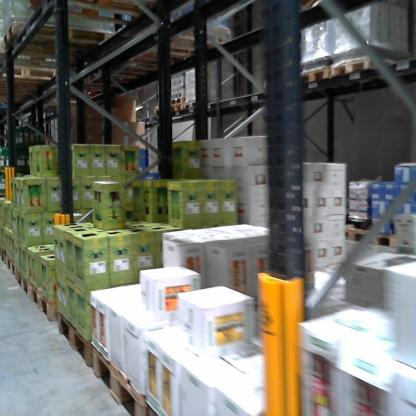pallet: (88, 332, 149, 415), (2, 21, 126, 61), (45, 1, 185, 27), (330, 46, 403, 87), (54, 306, 92, 375), (0, 62, 71, 90), (29, 276, 60, 324), (289, 55, 334, 87), (336, 220, 373, 250), (370, 223, 397, 251), (15, 264, 33, 296), (162, 101, 184, 117), (5, 252, 16, 280)
